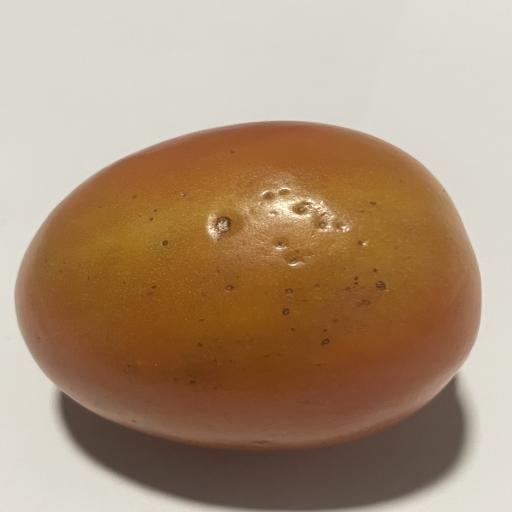unripe: (16, 122, 480, 451)
